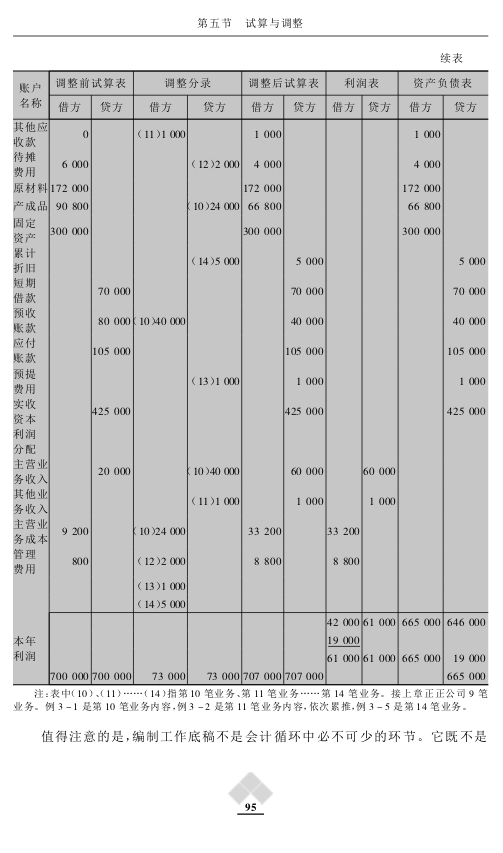table: (13, 70, 487, 685)
